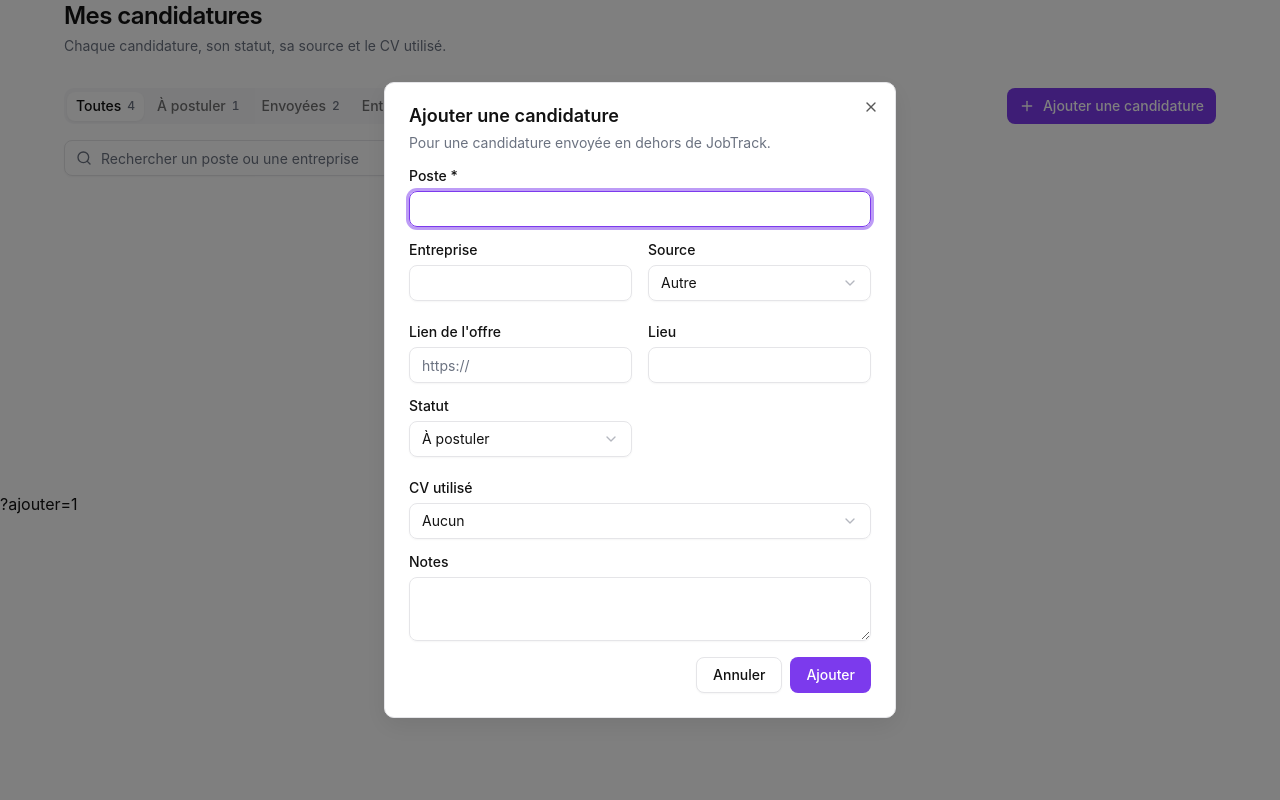
Test: ApplicationsPage › ouvre le formulaire depuis ?ajouter=1 et le referme
expect the dialog is shown: met, box left=384, top=82, right=896, bottom=718
expect the field labelled "Poste *" is shown: met, box left=409, top=191, right=871, bottom=227
Click the button "Annuler" at [739, 675], box left=696, top=657, right=782, bottom=693
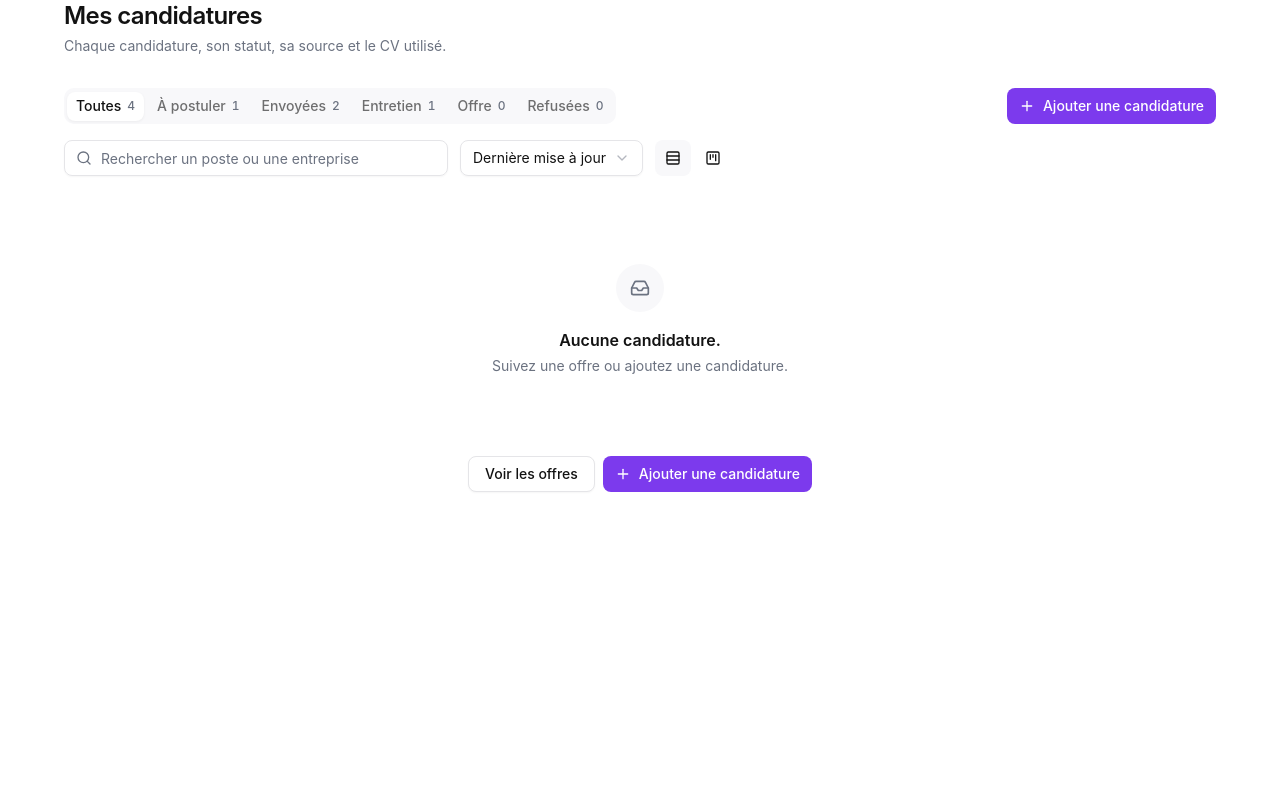
expect the dialog is gone: met
